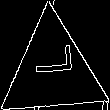L_W: (29, 53, 76, 88)
